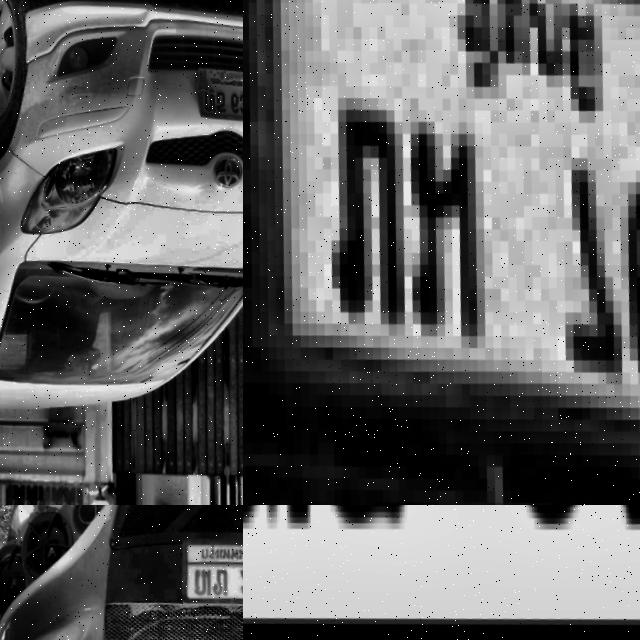license-plate: (274, 0, 640, 428), (243, 505, 640, 640), (172, 536, 243, 623), (188, 64, 243, 138)
